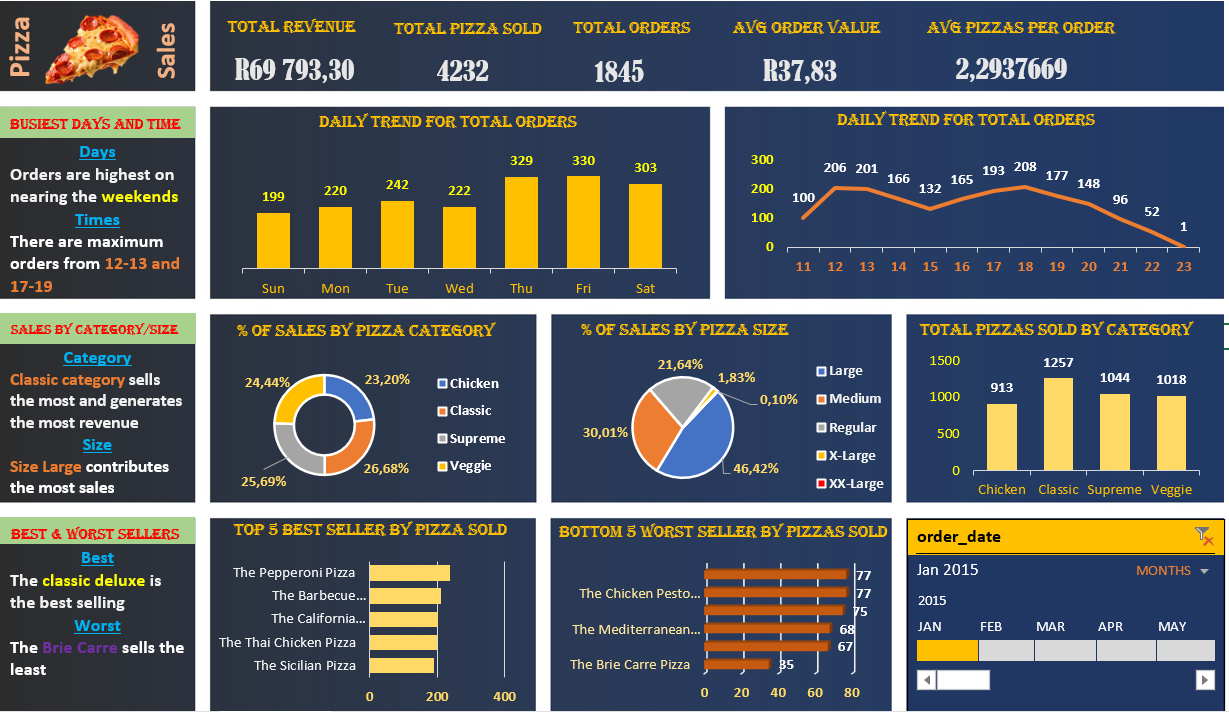

This screenshot's page, from the dashboard's own definition file:
{"tool":"powerbi","page":{"name":"Page 1","canvas":[1399,850],"ordinal":0},"visuals":[{"type":"shape","box":[0,0,1400.6,67.7],"z":0},{"type":"clusteredColumnChart","title":"Total pizzas sold by category","fields":{"Category":["pizza_sales.pizza_category"],"Y":["pizza_sales.Total Pizzas Sold Numeric"]},"box":[304.1,385.5,307.5,196.7],"z":0,"group":"g5"},{"type":"clusteredColumnChart","title":"Total pizzas sold by category","fields":{"Category":["pizza_sales.order_day"],"Y":["pizza_sales.total orders"]},"box":[635.8,391.9,307.5,190.5],"z":0,"group":"g1"},{"type":"textbox","box":[0,501.2,289.2,139.8],"z":0,"group":"g10"},{"type":"textbox","box":[0,690.7,289.2,153.5],"z":0,"group":"g16"},{"type":"textbox","box":[1209,0,190,38.3],"z":1000,"group":"g2"},{"type":"shape","box":[0,76.9,289.2,767.4],"z":1000},{"type":"textbox","box":[303.6,353.1,307.5,33.9],"z":1000,"group":"g5"},{"type":"textbox","box":[635.8,354.4,307.5,37.5],"z":1000,"group":"g1"},{"type":"textbox","box":[961.5,360.9,432.4,34.4],"z":1000,"group":"g7"},{"type":"textbox","box":[0,469,289.2,33.4],"z":1000,"group":"g10"},{"type":"textbox","box":[1059.2,592.8,318.6,28],"z":1000,"group":"g13"},{"type":"textbox","box":[307.5,596.7,308.8,33.1],"z":1000,"group":"g8"},{"type":"textbox","box":[660.5,596.7,397.2,34.4],"z":1000,"group":"g9"},{"type":"textbox","box":[0,641,289.2,48.3],"z":1000,"group":"g16"},{"type":"shape","box":[298.4,592.8,1089.2,251.4],"z":2000},{"type":"shape","box":[298.4,344,1091.8,238.4],"z":3000},{"type":"textbox","box":[414.3,0,635.8,67.7],"z":4000},{"type":"shape","box":[298.4,75.6,1091.8,263.2],"z":4000,"group":"g3"},{"type":"group","id":"g1","title":"Group 2","box":[635.8,354.4,307.5,228],"z":5000},{"type":"group","id":"g2","title":"Group 2","box":[1209,0,190.2,37.8],"z":6000},{"type":"group","id":"g3","title":"Group 1","box":[298.4,75.6,1091.8,263.2],"z":6000,"group":"g18"},{"type":"cardVisual","fields":{"Data":["pizza_sales.Total Sales"]},"box":[308.8,75.6,307.5,252.8],"z":6000,"group":"g3"},{"type":"cardVisual","fields":{"Data":["pizza_sales.Total Pizzas Sold"]},"box":[694.9,85.7,363.5,252.8],"z":6000,"group":"g11"},{"type":"cardVisual","fields":{"Data":["pizza_sales.total orders formatted"]},"box":[1071.4,85.7,306.2,252.8],"z":6000,"group":"g4"},{"type":"group","id":"g4","title":"Group 1","box":[1071.4,85.7,306.2,252.8],"z":7000,"group":"g18"},{"type":"group","id":"g5","title":"Group 2","box":[303.6,353.1,307.5,229.3],"z":7000},{"type":"lineChart","fields":{"Category":["Date Table.Date.Variation.Date Hierarchy.Year","Date Table.Date.Variation.Date Hierarchy.Quarter","Date Table.Date.Variation.Date Hierarchy.Month","Date Table.Date.Variation.Date Hierarchy.Day"],"Y":["pizza_sales.Total Sales"]},"box":[337.4,190.3,298.4,143.3],"z":8000,"group":"g3"},{"type":"lineChart","fields":{"Category":["Date Table.Date.Variation.Date Hierarchy.Year","Date Table.Date.Variation.Date Hierarchy.Quarter","Date Table.Date.Variation.Date Hierarchy.Month","Date Table.Date.Variation.Date Hierarchy.Day"],"Y":["pizza_sales.Total Pizzas Sold Numeric"]},"box":[728.2,197.8,327,134.2],"z":8000,"group":"g11"},{"type":"group","id":"g6","title":"Group 4","box":[307.5,596.7,308.8,218.9],"z":8000},{"type":"lineChart","fields":{"Category":["Date Table.Date.Variation.Date Hierarchy.Year","Date Table.Date.Variation.Date Hierarchy.Quarter","Date Table.Date.Variation.Date Hierarchy.Month","Date Table.Date.Variation.Date Hierarchy.Day"],"Y":["pizza_sales.total orders"]},"box":[1097,198,291.8,118.6],"z":9000},{"type":"group","id":"g7","title":"Group 2","box":[961.5,360.9,432.4,34.4],"z":9000,"group":"g14"},{"type":"group","id":"g8","title":"Group 2","box":[307.5,596.7,308.8,33.1],"z":9000,"group":"g6"},{"type":"group","id":"g9","title":"Group 2","box":[660.5,596.7,397.2,34.4],"z":9000,"group":"g15"},{"type":"group","id":"g10","title":"Group 5","box":[0,469,289.2,172],"z":10000},{"type":"group","id":"g11","title":"Group 3","box":[694.9,85.7,363.5,252.8],"z":11000,"group":"g18"},{"type":"group","id":"g12","title":"Group 6","box":[1059.2,592.8,324.4,204.5],"z":11000},{"type":"group","id":"g13","title":"Group 2","box":[1059.2,592.8,319.2,27.8],"z":11000,"group":"g12"},{"type":"pieChart","fields":{"Category":["pizza_sales.pizza_size"],"Y":["pizza_sales.Total Sales"]},"box":[313.1,635.5,301.4,180.1],"z":11000,"group":"g6"},{"type":"stackedAreaChart","fields":{"Y":["pizza_sales.total orders"],"Category":["Date Table.Month"]},"box":[965.4,386.9,422.1,186.3],"z":12000},{"type":"group","id":"g14","title":"Group 4","box":[961.5,360.9,432.5,35.2],"z":13000},{"type":"clusteredBarChart","fields":{"Category":["pizza_sales.pizza_name"],"Y":["pizza_sales.Total Pizzas Sold Numeric"]},"box":[660.5,631.9,394.8,190.2],"z":13000,"group":"g17"},{"type":"advancedSlicerVisual","fields":{"Values":["Date Table.Month"]},"box":[0,76.9,289.2,185],"z":14000},{"type":"group","id":"g15","title":"Group 4","box":[660.5,596.7,397.4,35.2],"z":14000,"group":"g17"},{"type":"group","id":"g16","title":"Group 5","box":[0,641,289.2,203.2],"z":15000},{"type":"group","id":"g17","title":"Group 7","box":[660.5,596.7,397.4,225.4],"z":16000},{"type":"group","id":"g18","title":"Group 8","box":[298.4,75.6,1091.8,263.2],"z":17000},{"type":"lineChart","fields":{"Y":["pizza_sales.total orders"],"Category":["Date Table.Date.Variation.Date Hierarchy.Year","Date Table.Date.Variation.Date Hierarchy.Quarter","Date Table.Date.Variation.Date Hierarchy.Month","Date Table.Date.Variation.Date Hierarchy.Day"]},"box":[1097,194.1,286.6,134.2],"z":17001},{"type":"slicer","fields":{"Values":["pizza_sales.pizza_category","pizza_sales.pizza_size"]},"box":[0,314,289.2,153.7],"z":17002},{"type":"textbox","box":[0,264.5,289.2,33.9],"z":17003},{"type":"clusteredBarChart","fields":{"Category":["pizza_sales.pizza_name"],"Y":["pizza_sales.Total Pizzas Sold Numeric"]},"box":[1059.2,620.6,324.4,176.7],"z":18000,"group":"g12"}]}

Visuals, with their boxes in screenshot pixels (x1, y1, x2, y2):
shape: <bbox>0, 26, 1075, 79</bbox>
"Total pizzas sold by category" clusteredColumnChart: <bbox>203, 332, 448, 489</bbox>
"Total pizzas sold by category" clusteredColumnChart: <bbox>467, 337, 712, 489</bbox>
textbox: <bbox>0, 424, 192, 535</bbox>
textbox: <bbox>0, 575, 192, 697</bbox>
textbox: <bbox>923, 26, 1074, 56</bbox>
shape: <bbox>0, 87, 192, 697</bbox>
textbox: <bbox>203, 306, 447, 333</bbox>
textbox: <bbox>467, 307, 712, 337</bbox>
textbox: <bbox>726, 313, 1070, 340</bbox>
textbox: <bbox>0, 399, 192, 425</bbox>
textbox: <bbox>804, 497, 1057, 519</bbox>
textbox: <bbox>206, 500, 452, 526</bbox>
textbox: <bbox>487, 500, 803, 527</bbox>
textbox: <bbox>0, 535, 192, 574</bbox>
shape: <bbox>199, 497, 1065, 697</bbox>
shape: <bbox>199, 299, 1067, 489</bbox>
textbox: <bbox>291, 26, 797, 79</bbox>
shape: <bbox>199, 86, 1067, 295</bbox>
"Group 2" group: <bbox>467, 307, 712, 489</bbox>
"Group 2" group: <bbox>923, 26, 1074, 56</bbox>
"Group 1" group: <bbox>199, 86, 1067, 295</bbox>
cardVisual - pizza_sales.Total Sales: <bbox>207, 86, 452, 287</bbox>
cardVisual - pizza_sales.Total Pizzas Sold: <bbox>514, 94, 803, 295</bbox>
cardVisual - pizza_sales.total orders formatted: <bbox>813, 94, 1057, 295</bbox>
"Group 1" group: <bbox>813, 94, 1057, 295</bbox>
"Group 2" group: <bbox>203, 306, 447, 489</bbox>
lineChart - Date Table.Date.Variation.Date Hierarchy.Year x Date Table.Date.Variation.Date Hierarchy.Quarter: <bbox>230, 177, 467, 291</bbox>
lineChart - Date Table.Date.Variation.Date Hierarchy.Year x Date Table.Date.Variation.Date Hierarchy.Quarter: <bbox>541, 183, 801, 290</bbox>
"Group 4" group: <bbox>206, 500, 452, 674</bbox>
lineChart - Date Table.Date.Variation.Date Hierarchy.Year x Date Table.Date.Variation.Date Hierarchy.Quarter: <bbox>834, 183, 1066, 277</bbox>
"Group 2" group: <bbox>726, 313, 1070, 340</bbox>
"Group 2" group: <bbox>206, 500, 452, 526</bbox>
"Group 2" group: <bbox>487, 500, 803, 527</bbox>
"Group 5" group: <bbox>0, 399, 192, 535</bbox>
"Group 3" group: <bbox>514, 94, 803, 295</bbox>
"Group 6" group: <bbox>804, 497, 1062, 660</bbox>
"Group 2" group: <bbox>804, 497, 1058, 519</bbox>
pieChart - pizza_sales.pizza_size x pizza_sales.Total Sales: <bbox>211, 531, 450, 674</bbox>
stackedAreaChart - pizza_sales.total orders x Date Table.Month: <bbox>729, 333, 1065, 481</bbox>
"Group 4" group: <bbox>726, 313, 1070, 341</bbox>
clusteredBarChart - pizza_sales.pizza_name x pizza_sales.Total Pizzas Sold Numeric: <bbox>487, 528, 801, 679</bbox>
advancedSlicerVisual - Date Table.Month: <bbox>0, 87, 192, 234</bbox>
"Group 4" group: <bbox>487, 500, 803, 528</bbox>
"Group 5" group: <bbox>0, 535, 192, 697</bbox>
"Group 7" group: <bbox>487, 500, 803, 679</bbox>
"Group 8" group: <bbox>199, 86, 1067, 295</bbox>
lineChart - pizza_sales.total orders x Date Table.Date.Variation.Date Hierarchy.Year: <bbox>834, 180, 1062, 287</bbox>
slicer - pizza_sales.pizza_category x pizza_sales.pizza_size: <bbox>0, 275, 192, 397</bbox>
textbox: <bbox>0, 236, 192, 263</bbox>
clusteredBarChart - pizza_sales.pizza_name x pizza_sales.Total Pizzas Sold Numeric: <bbox>804, 519, 1062, 660</bbox>
